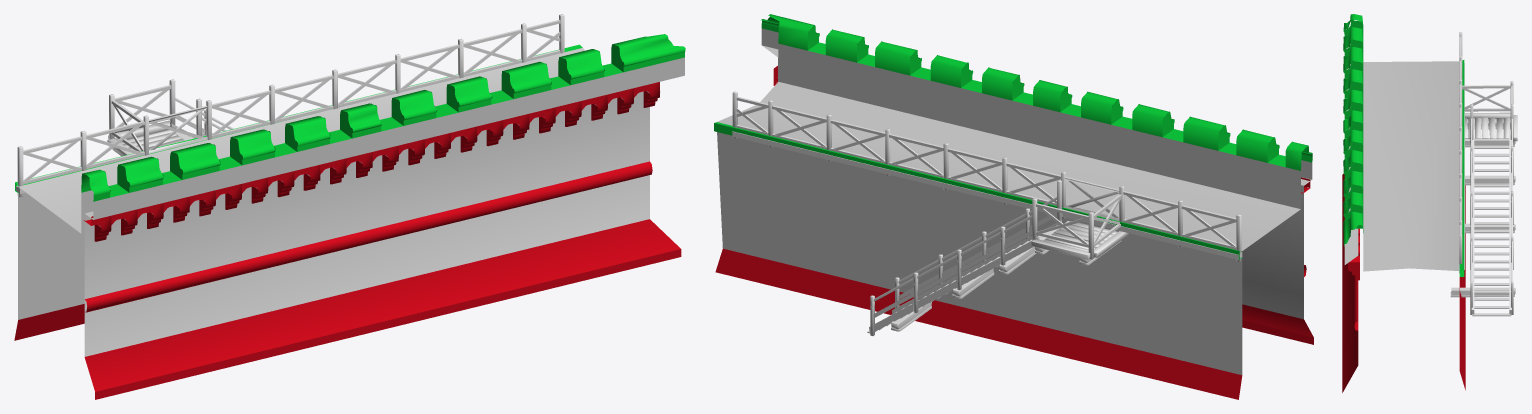
Rendered from Wall_3 (1).fbx.
3 renders of one model, left to right at view 1: azimuth 30°, elevation 25°; view 2: azimuth 150°, elevation 25°; view 3: azimuth 270°, elevation 25°, orthographic. The views are drawn at different scales.
Visible parts, largest first — view 1: Group_4.015, Group_3.012, Group_3.013, Group_3.011; view 2: Group_4.015, Group_3.012, Group_3.013, Group_3.011; view 3: Group_4.015, Group_3.013, Group_3.012.
Part boxes in pixels (box(x1,y1,x2,y2)): Group_4.015: box(14, 34, 685, 399); Group_3.012: box(16, 14, 564, 197); Group_3.013: box(107, 79, 233, 156); Group_3.011: box(149, 106, 207, 153); Group_4.015: box(714, 14, 1313, 399); Group_3.012: box(732, 91, 1242, 261); Group_3.013: box(867, 180, 1128, 335); Group_3.011: box(1063, 177, 1121, 231); Group_4.015: box(1342, 14, 1465, 392); Group_3.013: box(1450, 81, 1517, 316); Group_3.012: box(1459, 32, 1464, 272).
Bounding box in the file's own units: 1947 × 690 × 655.
